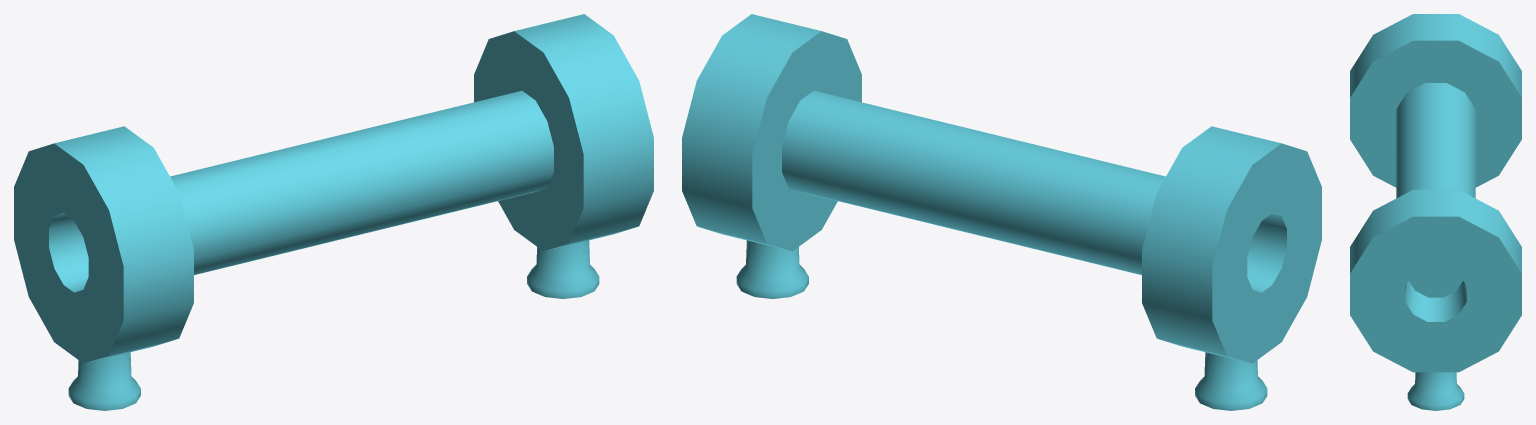
File: coil 1.fbx
The picture shows the model from 3 angles, left to right: view 1: azimuth 30°, elevation 25°; view 2: azimuth 150°, elevation 25°; view 3: azimuth 270°, elevation 25°; orthographic projection. The views are drawn at different scales.
Visible parts, largest first — view 1: coil; view 2: coil; view 3: coil.
Boxes of the visible parts, x1=… form: coil: x1=14, y1=14, x2=653, y2=410; coil: x1=682, y1=14, x2=1321, y2=410; coil: x1=1350, y1=14, x2=1521, y2=410.
Bounding box in the file's own units: 108 × 48.73 × 38.71.
